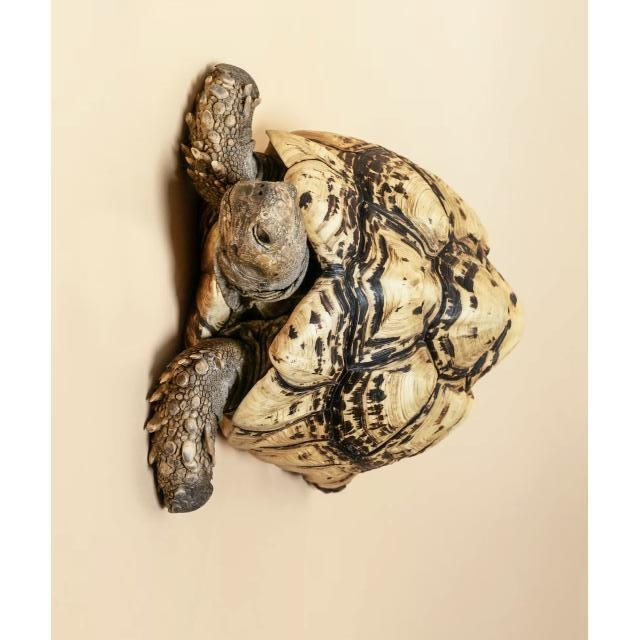turtle: (142, 62, 524, 515)
